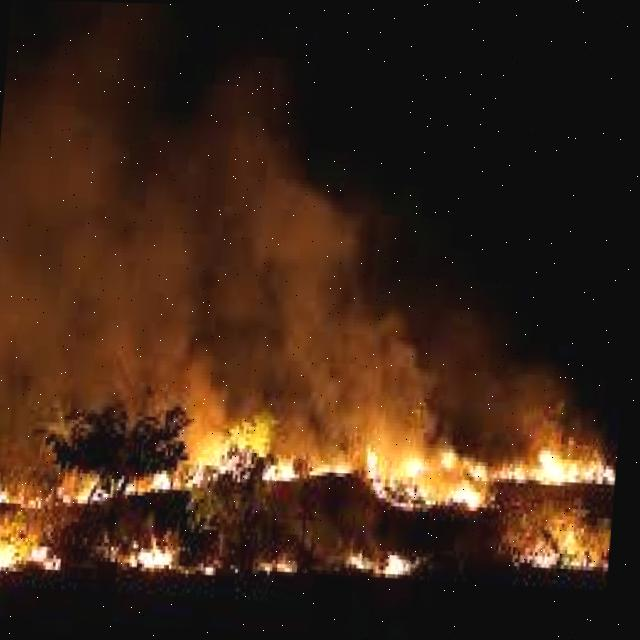fire: (0, 428, 620, 604)
smoke: (0, 108, 372, 420), (361, 314, 553, 440)
